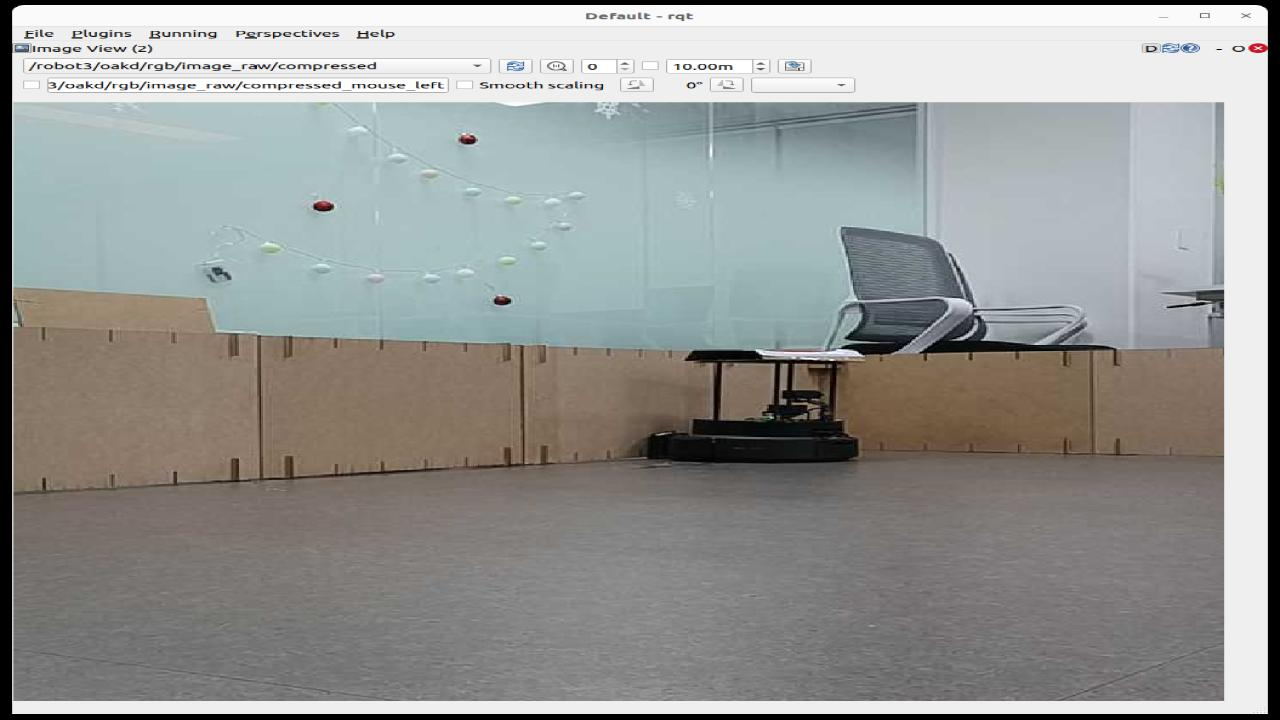AED: (687, 349, 863, 362)
Robot: (647, 361, 858, 462)
